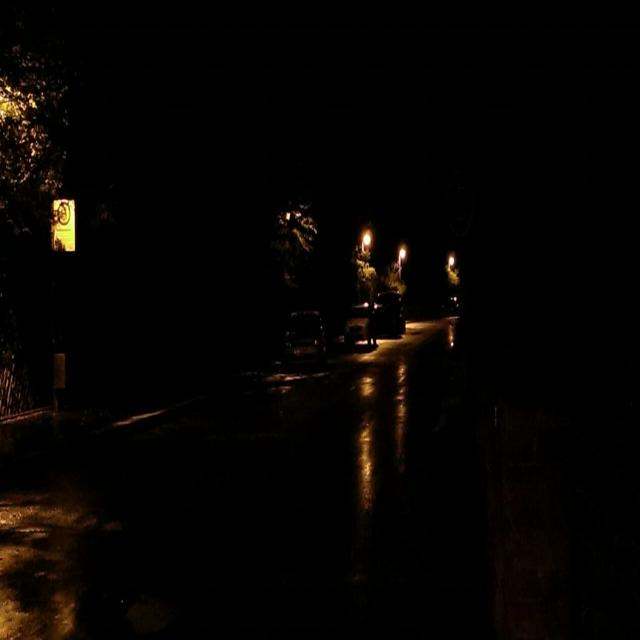Car: (271, 290, 338, 432), (343, 280, 415, 367)
